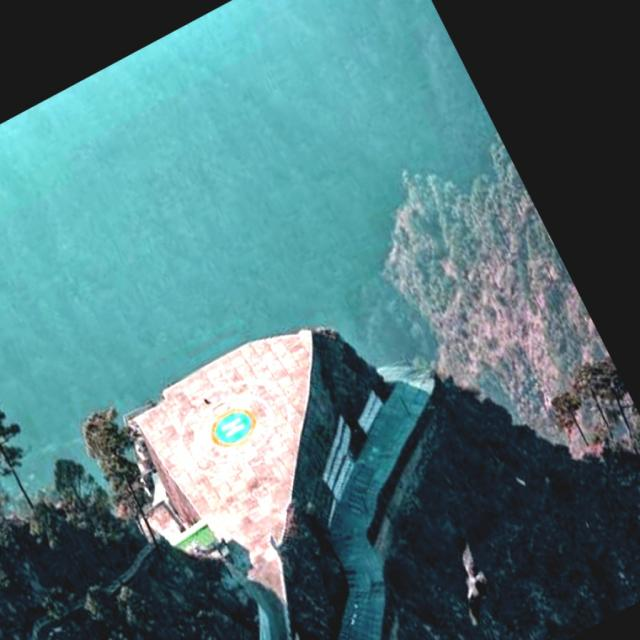helipad: (208, 406, 257, 448)
